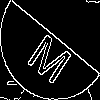M: (25, 25, 79, 87)
